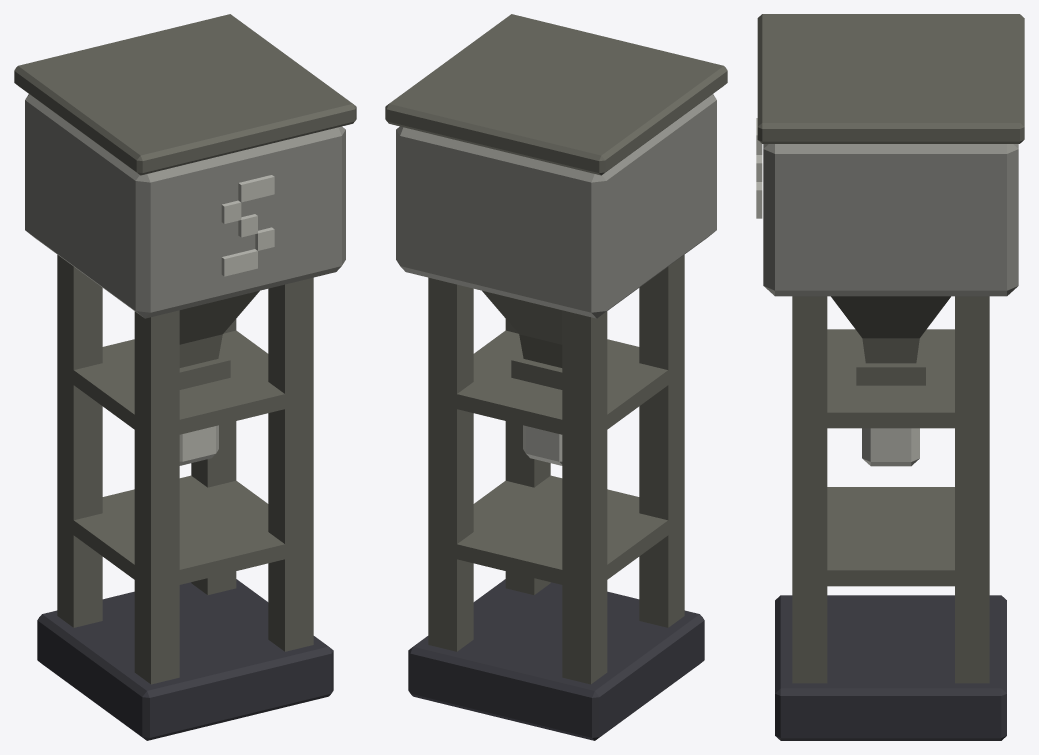
File: StoneDropper.fbx
The picture shows the model from 3 angles, left to right: view 1: azimuth 30°, elevation 25°; view 2: azimuth 150°, elevation 25°; view 3: azimuth 270°, elevation 25°; orthographic projection. The views are drawn at different scales.
Visible parts, largest first — view 1: StoneDropper, StoneDropper_Ore; view 2: StoneDropper, StoneDropper_Ore; view 3: StoneDropper, StoneDropper_Ore.
Part boxes in pixels (x1=…): StoneDropper: x1=14, y1=14, x2=356, y2=740; StoneDropper_Ore: x1=179, y1=425, x2=218, y2=465; StoneDropper: x1=385, y1=14, x2=727, y2=740; StoneDropper_Ore: x1=523, y1=425, x2=562, y2=465; StoneDropper: x1=756, y1=14, x2=1024, y2=740; StoneDropper_Ore: x1=862, y1=428, x2=919, y2=466.
Size of the model in its own units: 4.6 by 11.9 by 4.62.
Materials: 1 (1 with a texture image).
